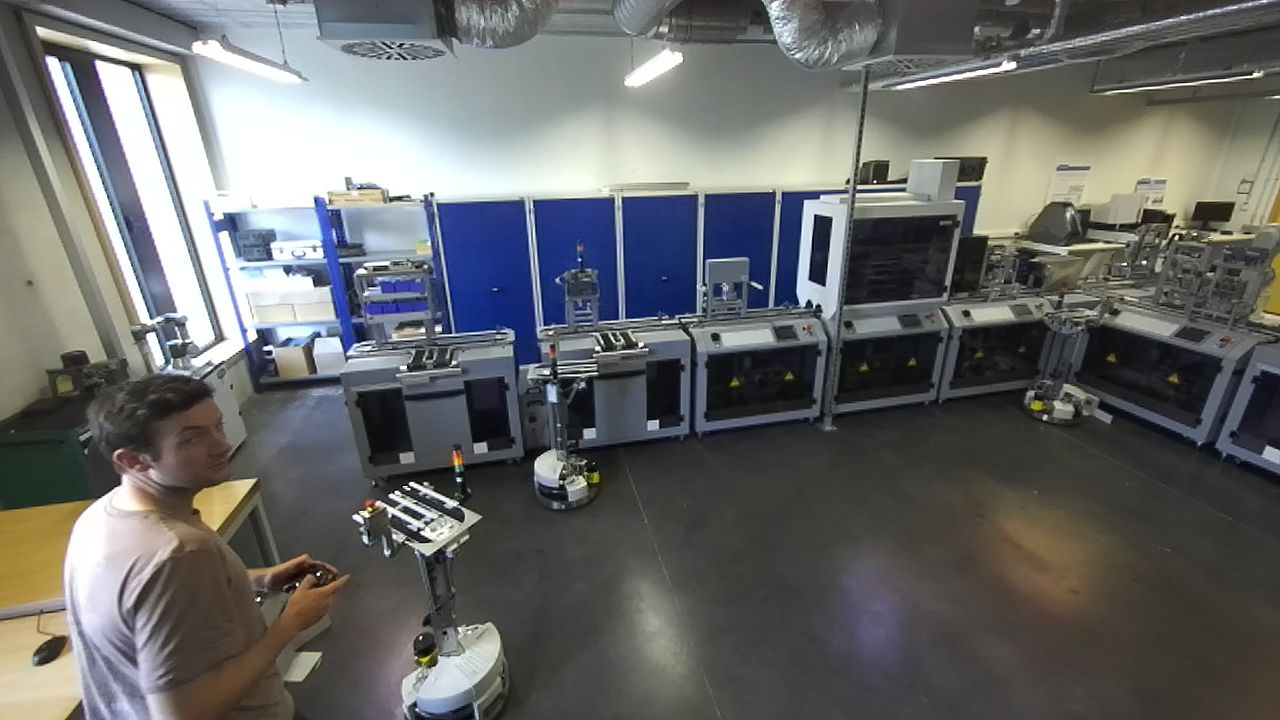AMR: (351, 442, 513, 717), (522, 329, 607, 510), (1024, 278, 1110, 428)
Human: (38, 378, 353, 717)
